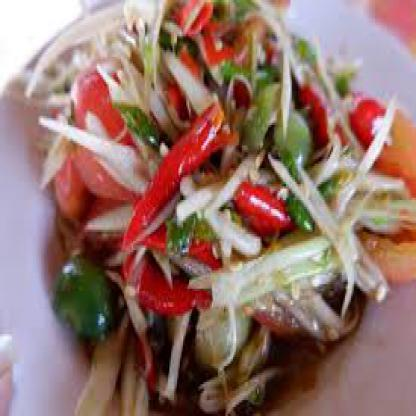Papaya Salad: (35, 5, 411, 414)
